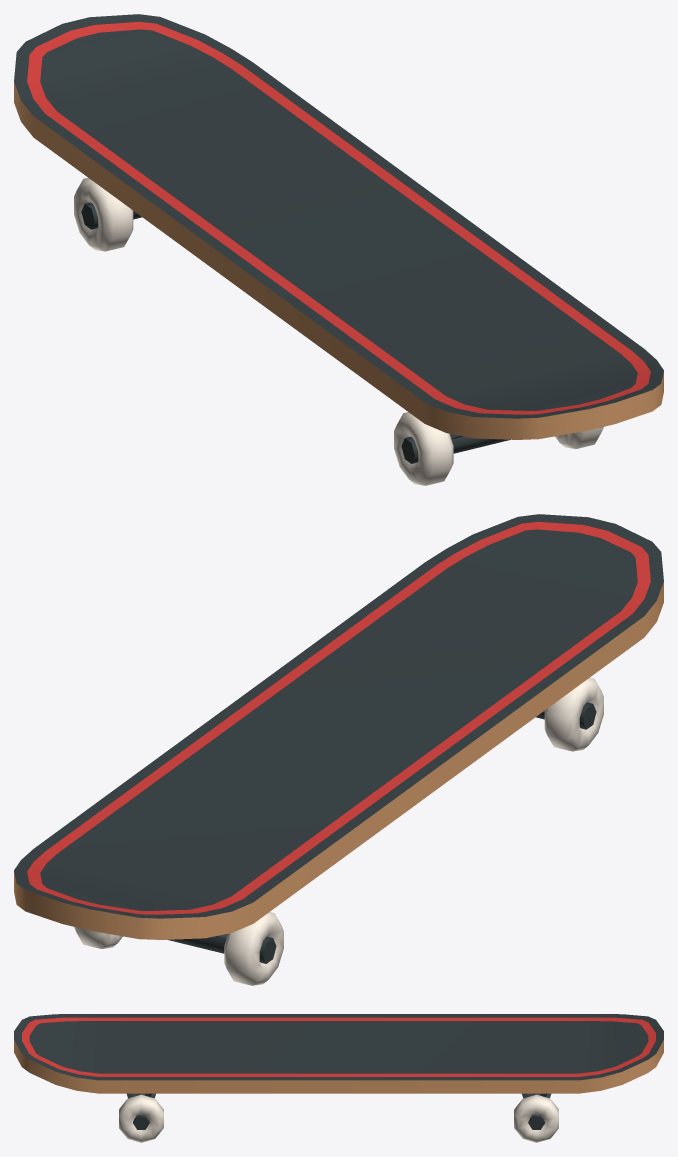
File: Skateboard_01.fbx
3 views of the same model, one above another, from view 1: azimuth 30°, elevation 25°; view 2: azimuth 150°, elevation 25°; view 3: azimuth 270°, elevation 25° (orthographic). The views are drawn at different scales.
Parts seen in each view (by area): view 1: Skateboard_01, Skateboard_01_Front_Right, Skateboard_01_Back_Right; view 2: Skateboard_01, Skateboard_01_Back_Right, Skateboard_01_Front_Right; view 3: Skateboard_01, Skateboard_01_Back_Left, Skateboard_01_Front_Left.
Part boxes in pixels (x1,y1,x2,y2): Skateboard_01: (14,14,663,463); Skateboard_01_Front_Right: (394,412,453,485); Skateboard_01_Back_Right: (74,177,133,251); Skateboard_01: (14,514,663,963); Skateboard_01_Back_Right: (224,912,283,985); Skateboard_01_Front_Right: (544,677,603,751); Skateboard_01: (14,1014,663,1129); Skateboard_01_Back_Left: (514,1094,558,1142); Skateboard_01_Front_Left: (119,1094,163,1142).
Size of the model in its own units: 0.1825 by 0.1058 by 0.7573.
